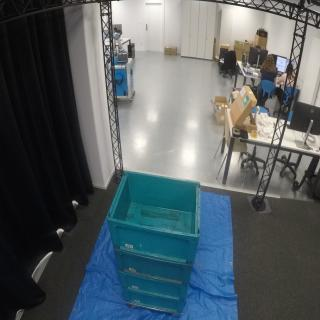BoxB4: (107, 168, 202, 266), (114, 249, 194, 286), (119, 269, 190, 303), (122, 287, 187, 318)
